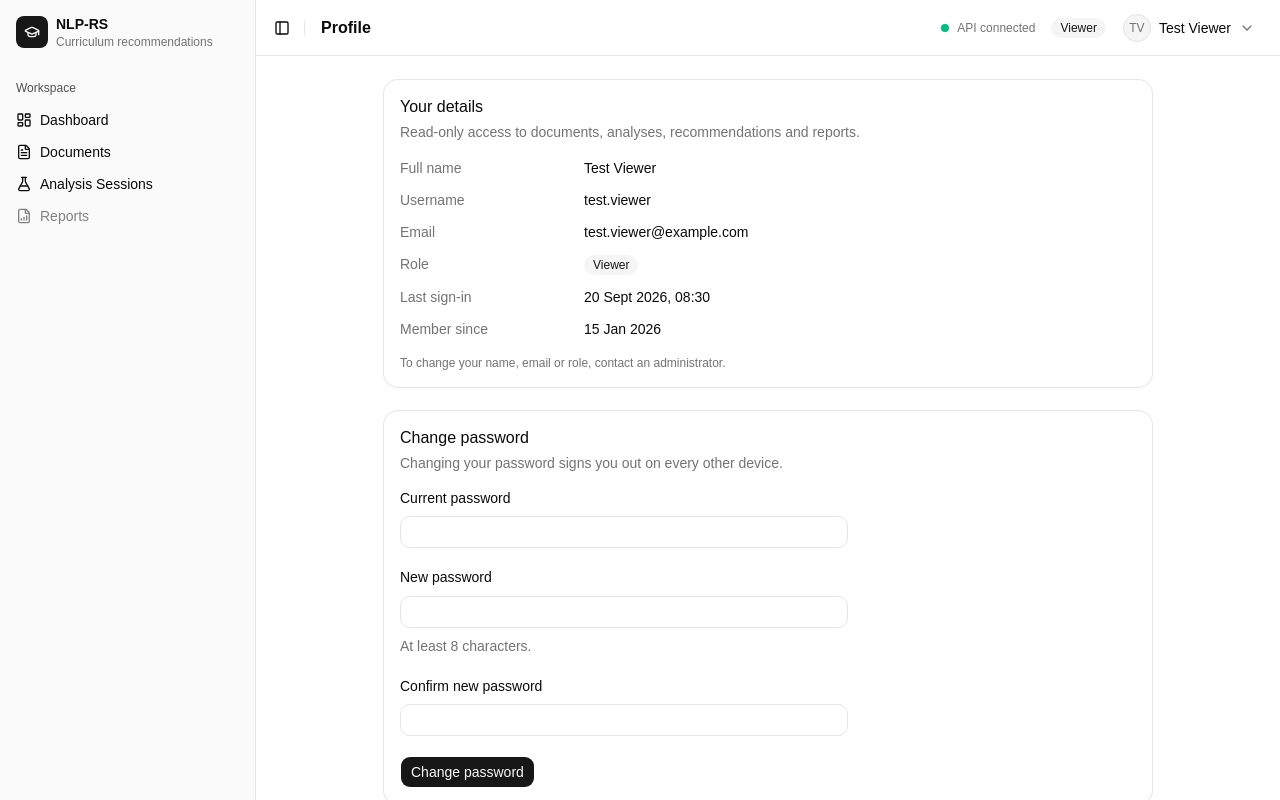
Scenario: ProfilePage › changes the password and clears the form
Type "Old-pass-123" into the password field labelled "Current password".
click(624, 532); type("Old-pass-123")  # box [400,516,848,548]
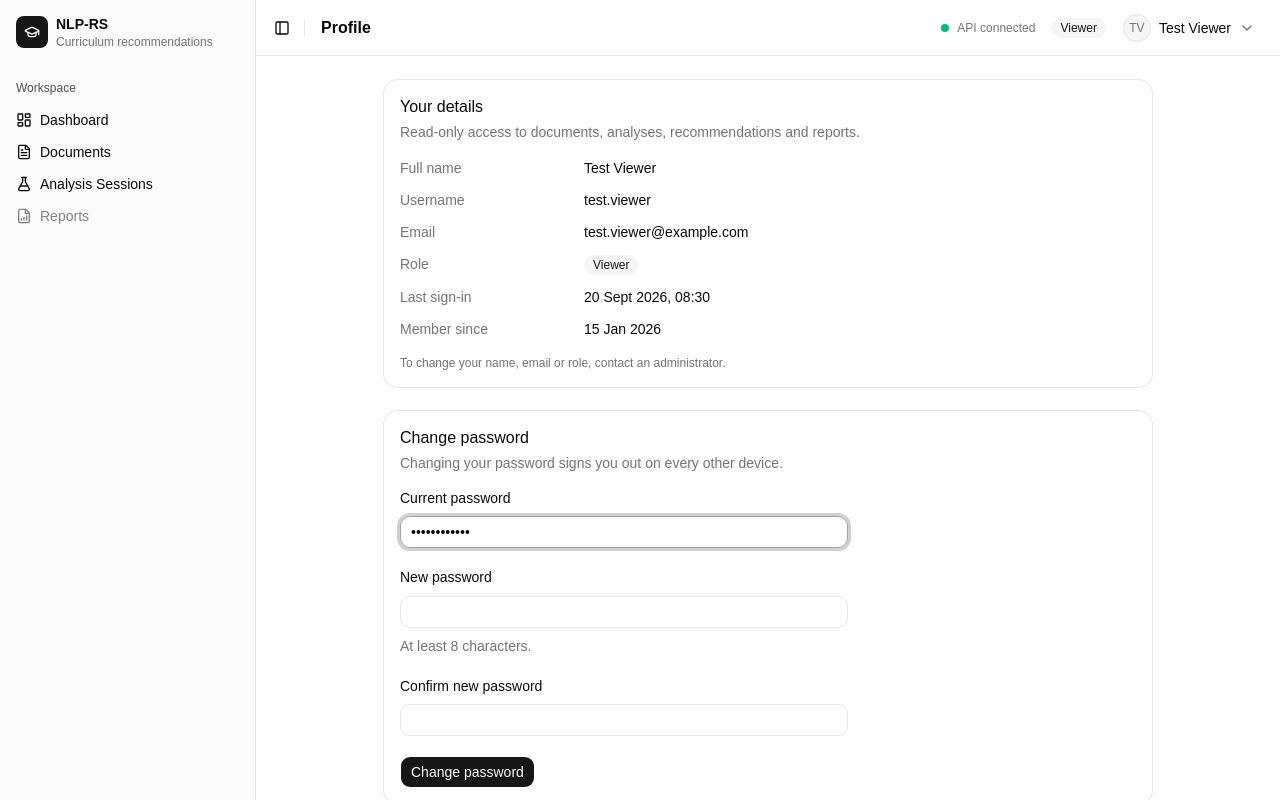
Type "Brand-new-pass-1" into the password field labelled "New password".
click(624, 612); type("Brand-new-pass-1")  # box [400,596,848,628]
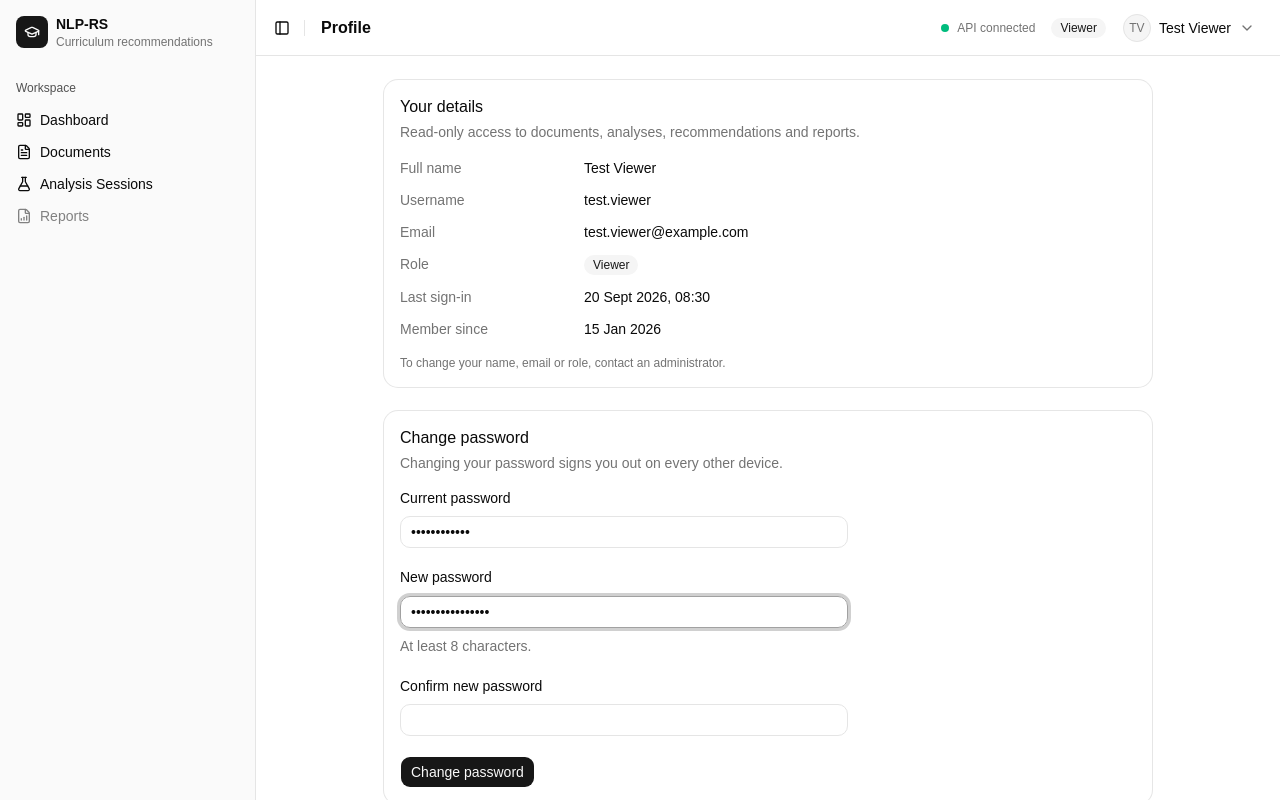
Type "Brand-new-pass-1" into the password field labelled "Confirm new password".
click(624, 720); type("Brand-new-pass-1")  # box [400,704,848,736]
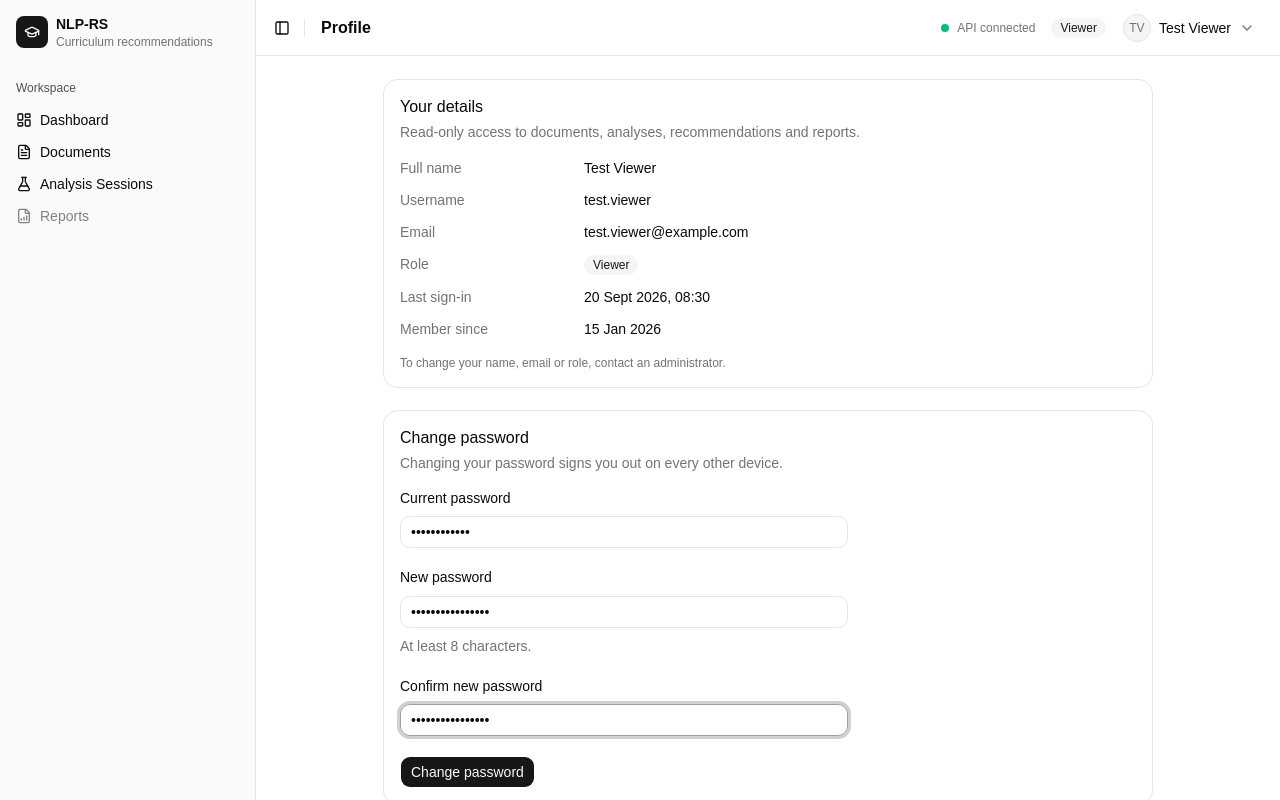
Click the button "Change password".
click(467, 772)  # box [400,756,535,788]
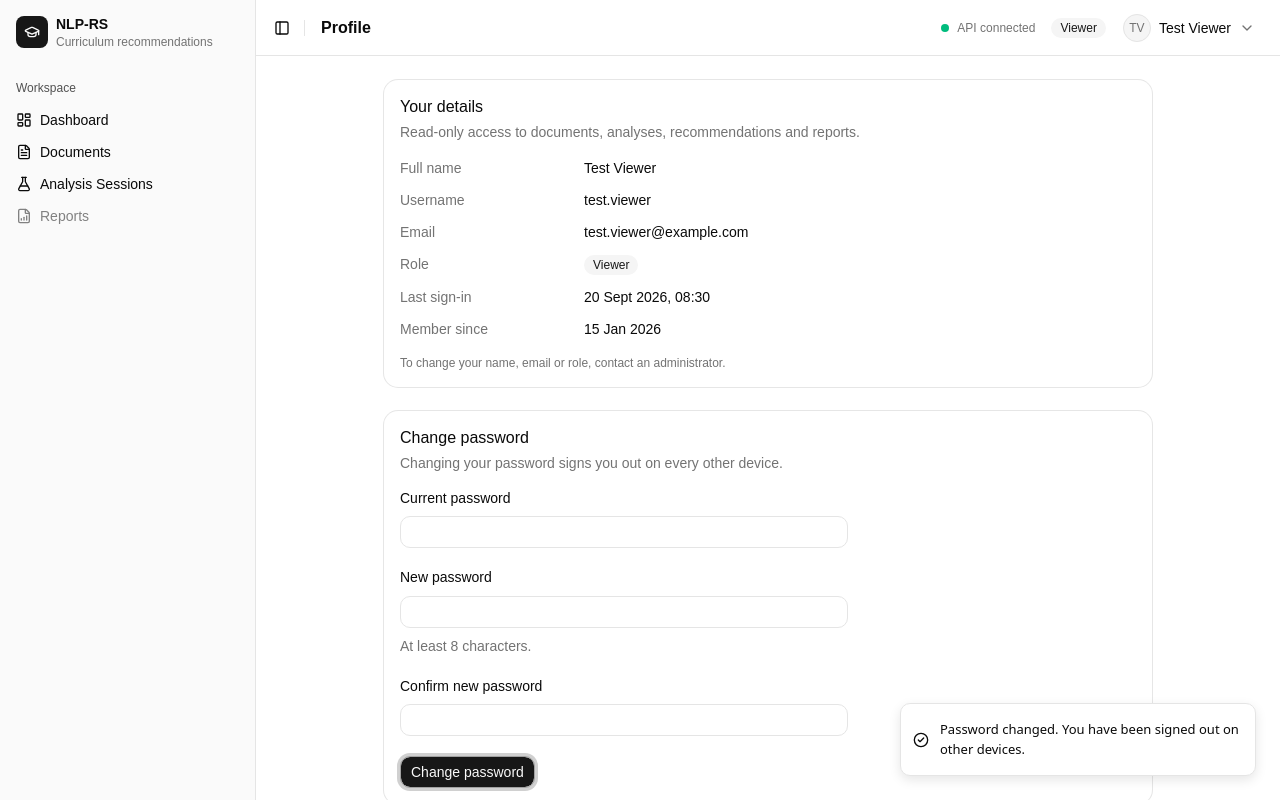
Check: the text "Password changed. You have been signed out on other devices." is shown, box [940,720,1239,759]
Check: the password field labelled "Current password" is empty, box [400,516,848,548]
